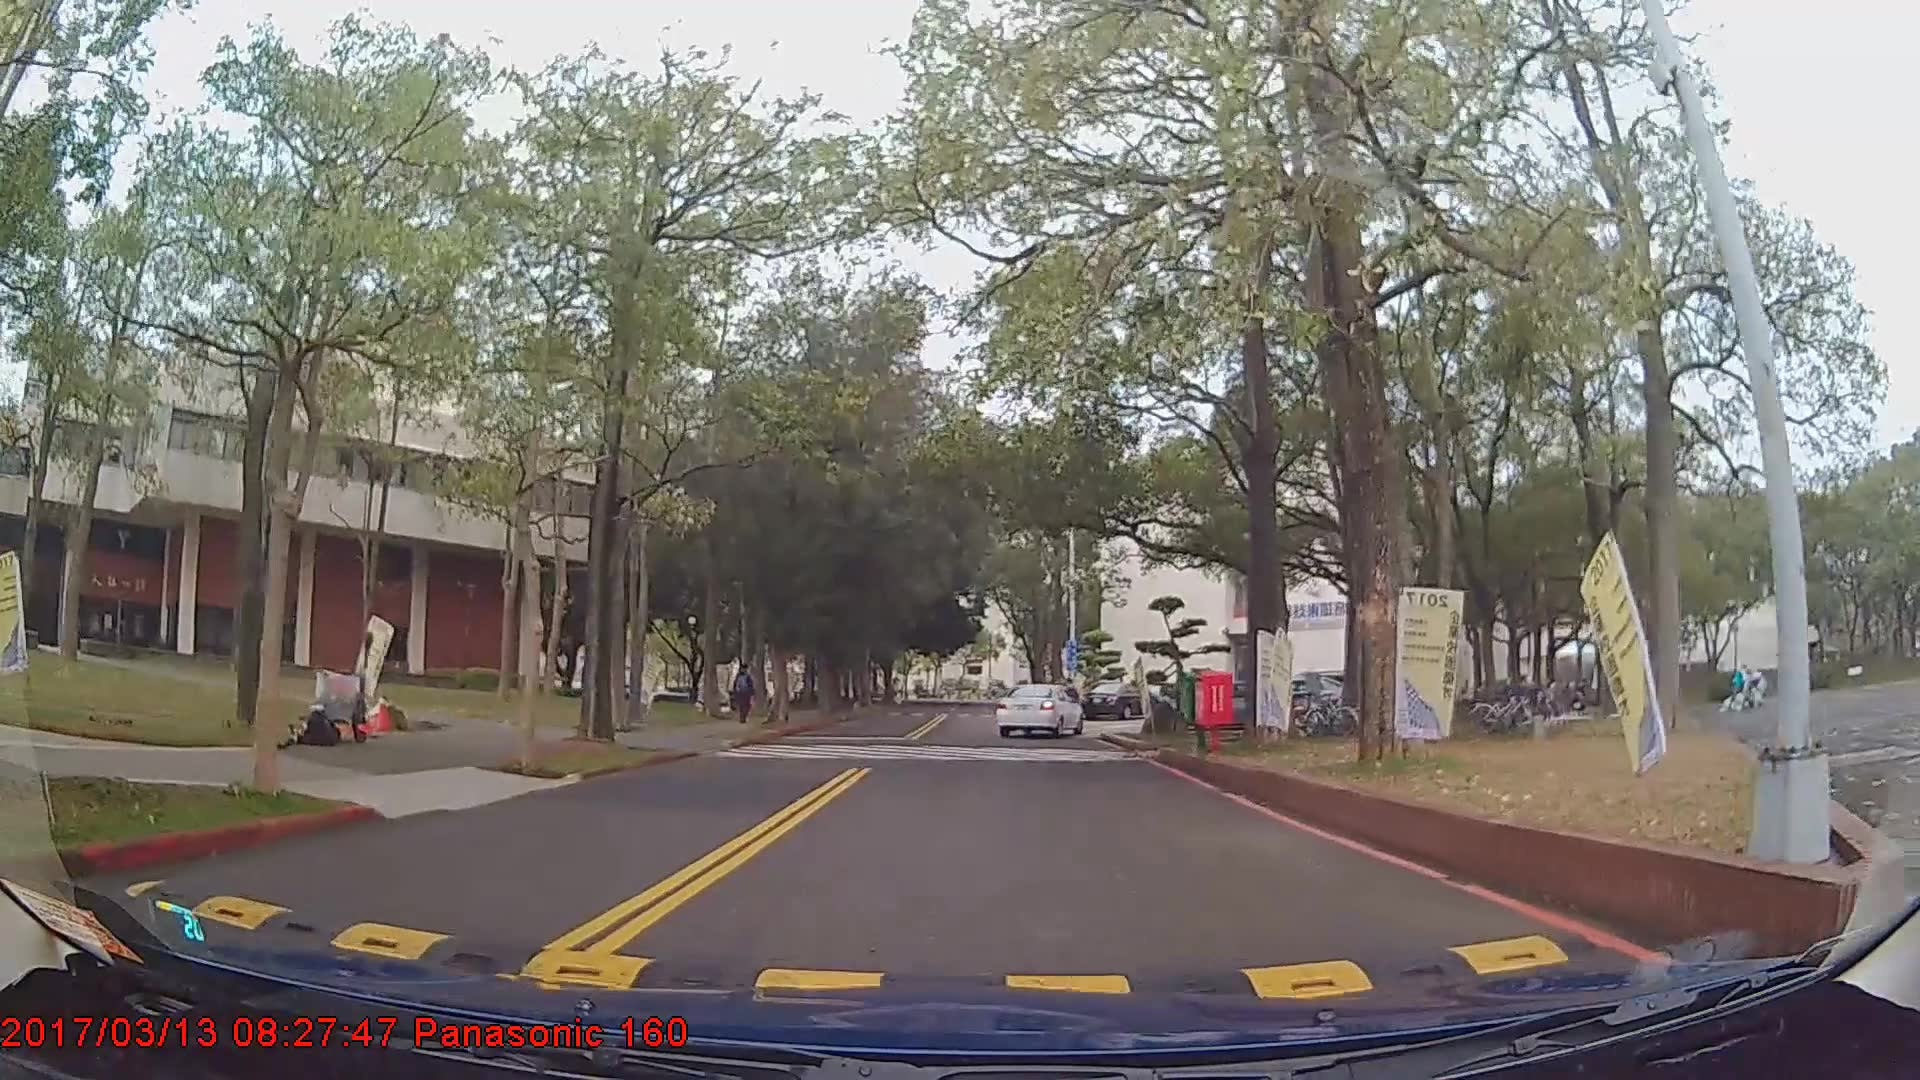pedestrian: (733, 663, 759, 726)
vehicle: (995, 681, 1083, 739), (1075, 680, 1154, 720)
